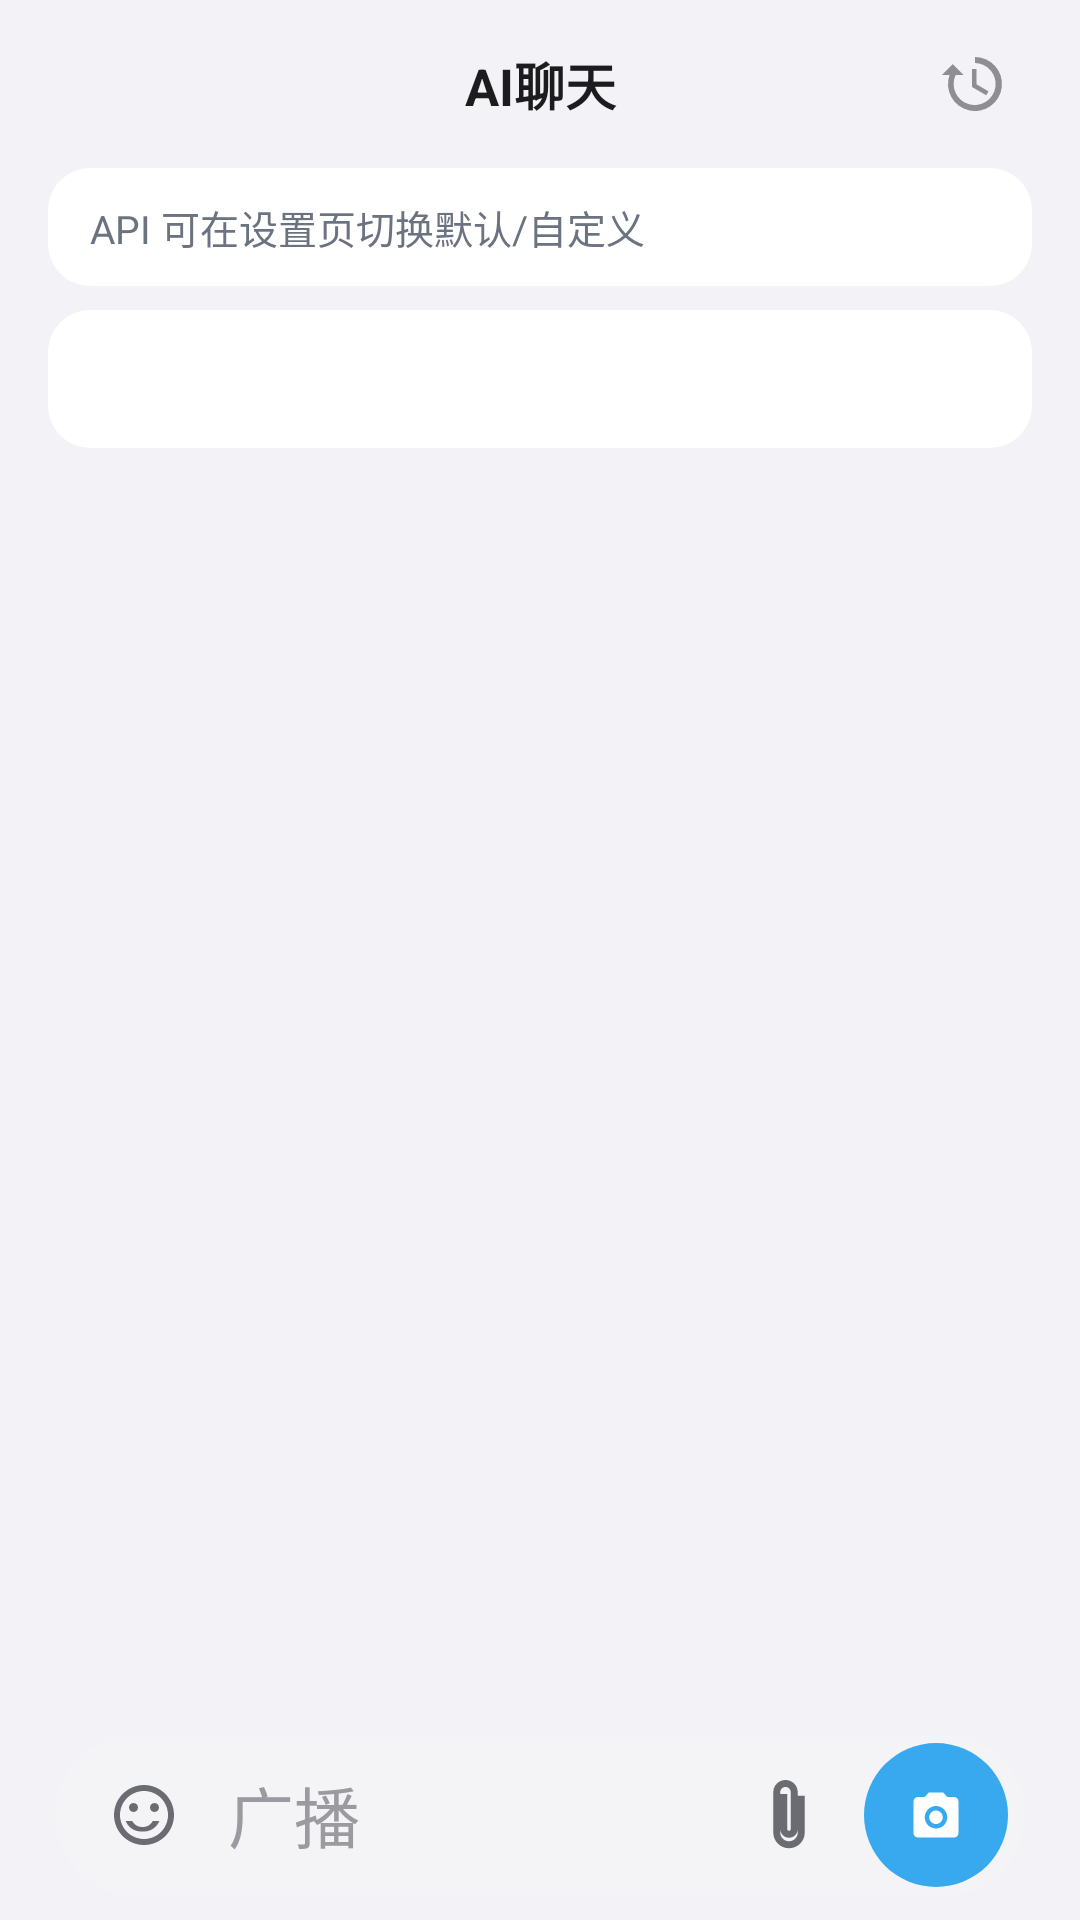

Where icons sit on this 1080px×1920px app screen, as bbox(x1, y1, x2, y2):
attach: bbox(773, 1780, 805, 1849)
history: bbox(942, 57, 1002, 111)
smile: bbox(114, 1785, 174, 1845)
